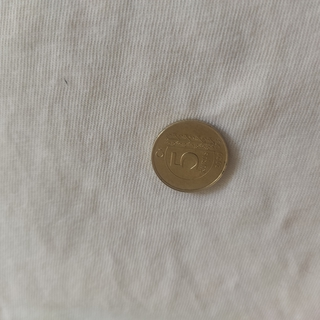5KURUS: (150, 118, 230, 194)
